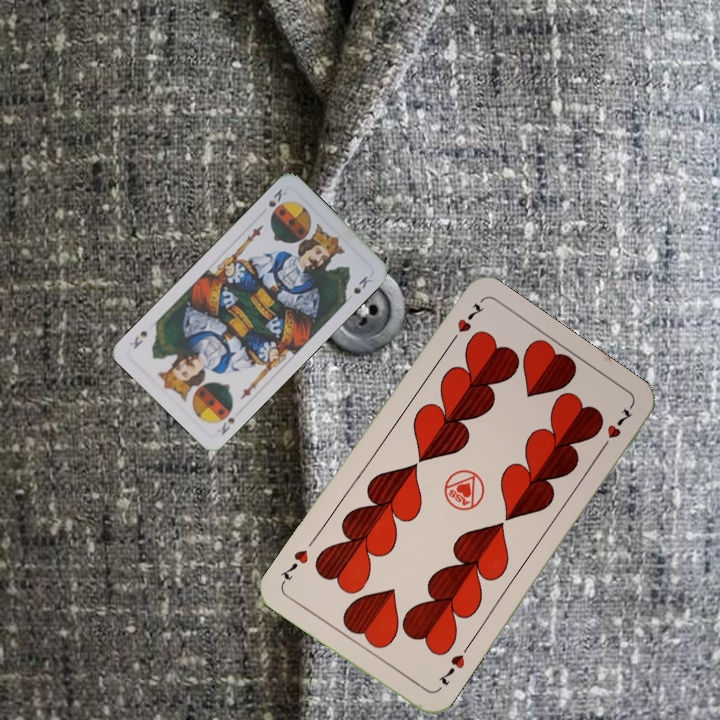H7: (444, 297, 487, 349), (433, 650, 468, 688)
SK: (264, 184, 289, 210), (213, 413, 237, 438)
